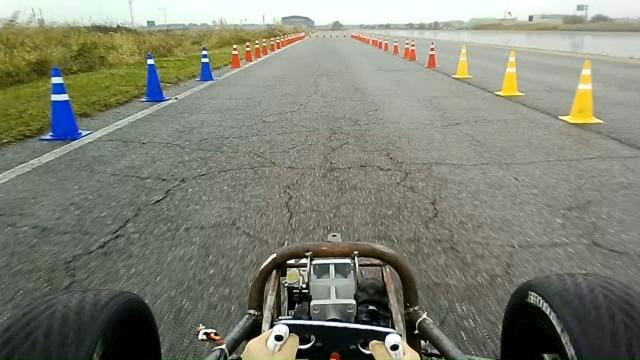blue cone: (38, 65, 91, 141), (138, 53, 170, 102), (196, 46, 216, 81)
red cone: (425, 41, 439, 69), (229, 43, 241, 68), (244, 39, 254, 62), (408, 39, 418, 61), (392, 37, 401, 56), (253, 39, 262, 58), (402, 38, 410, 59)
yellow cone: (558, 59, 604, 124), (494, 49, 525, 97), (451, 43, 472, 79)
